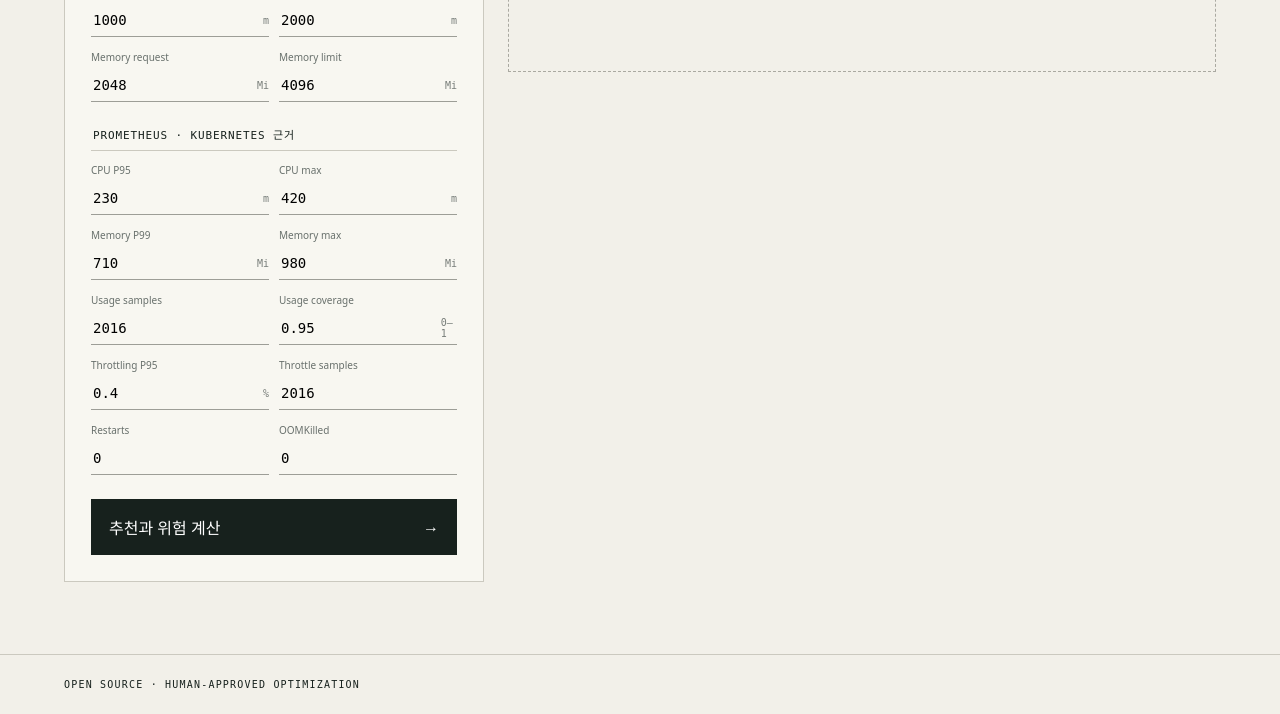
Test: KubeFit dashboard › submits the scenario to the evaluation API and renders its decision
This screenshot has width=1280, height=714.
(page scrolled)
Click the button "추천과 위험 계산 →": x=165, y=528 [91,499,457,555]
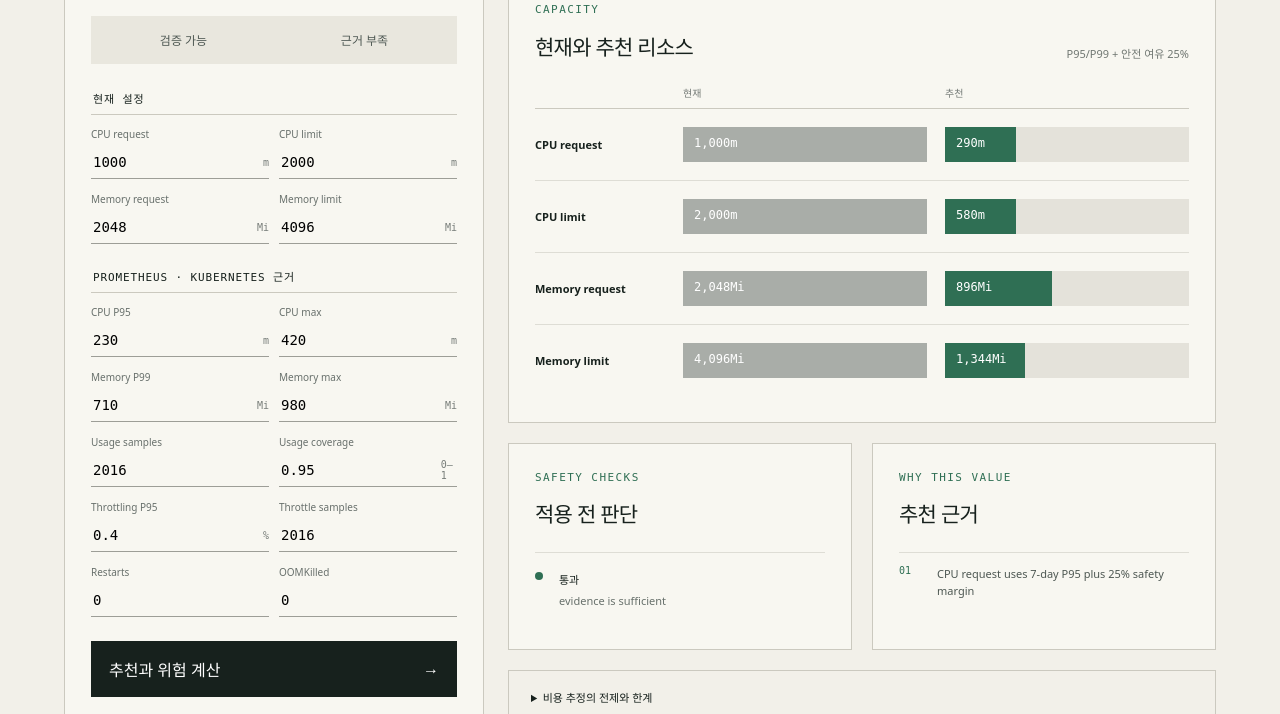
Expected: the list item "CPU request uses 7-day P95 plus 25% safety margin" is shown, [899,552,1189,611]
